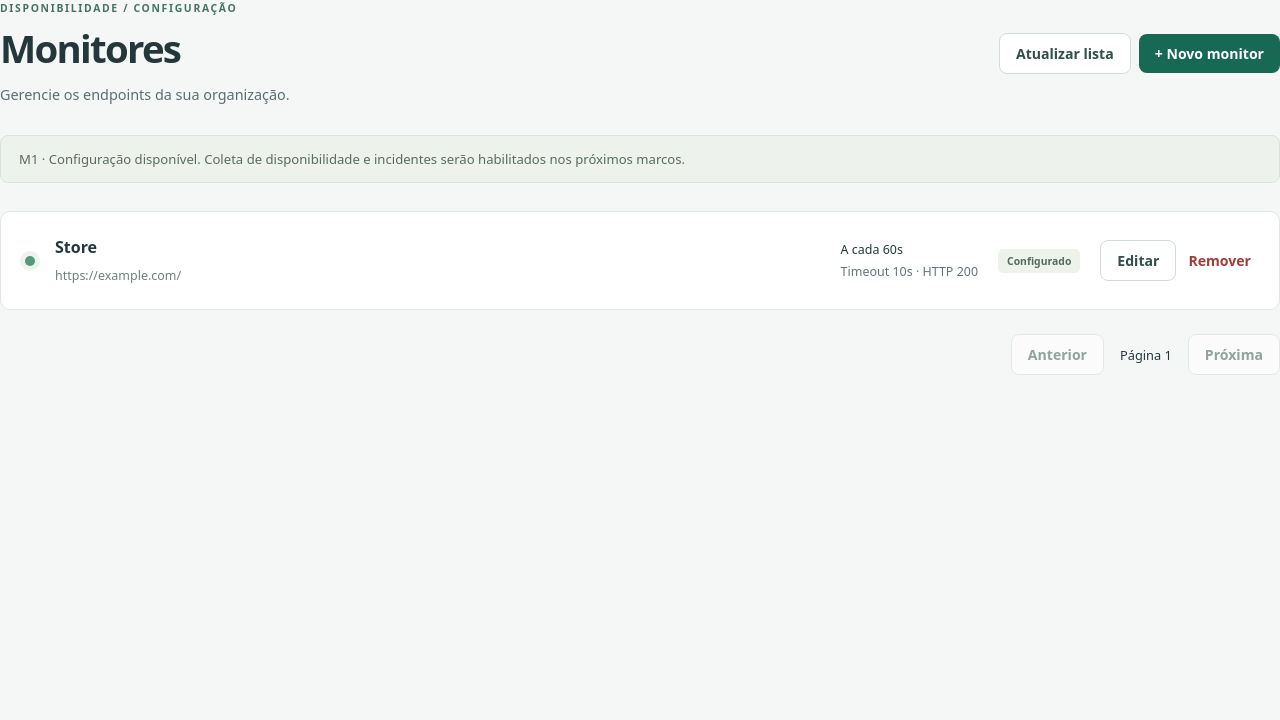
MonitorDashboard › keeps edits visible on a stale-version conflict
Expected: the heading "Store" is shown, [55,236,97,258]
Click the button "Editar" at coordinates (1138, 260), box [1100,240,1176,281]
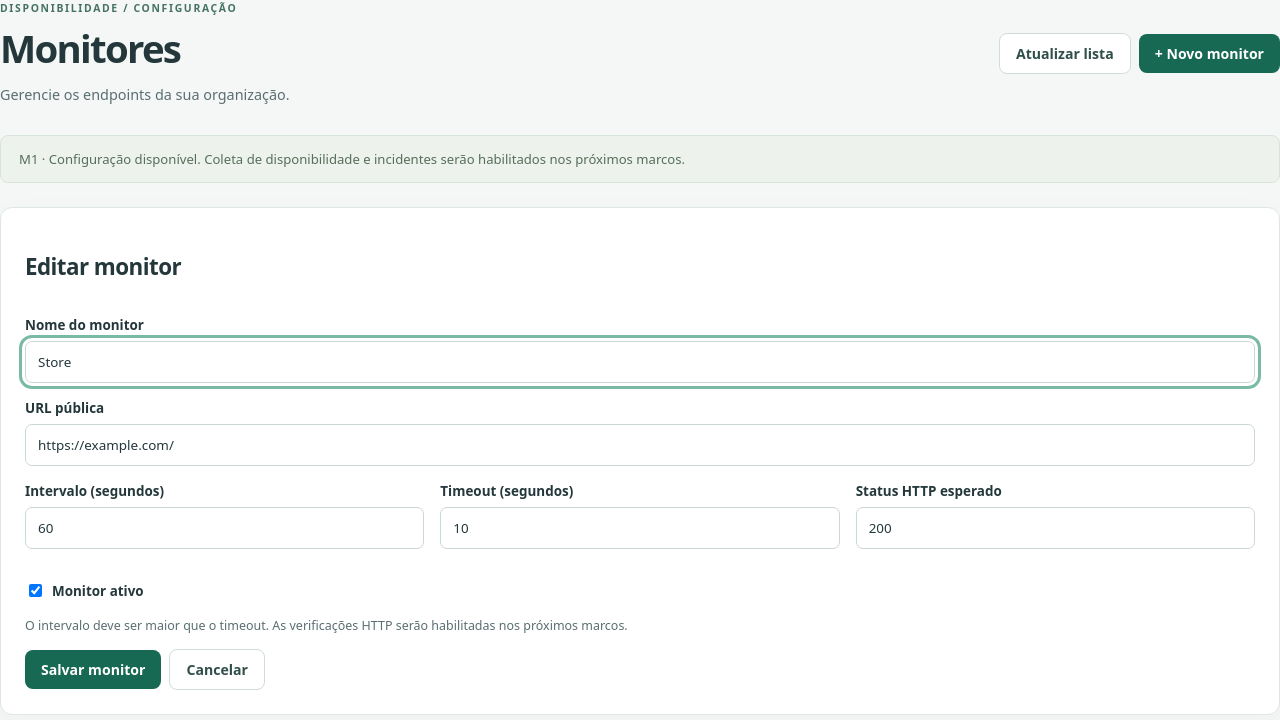
Replace the text in the field labelled "Nome do monitor" with "Unsaved edit" at coordinates (640, 362), box [25,341,1255,383]
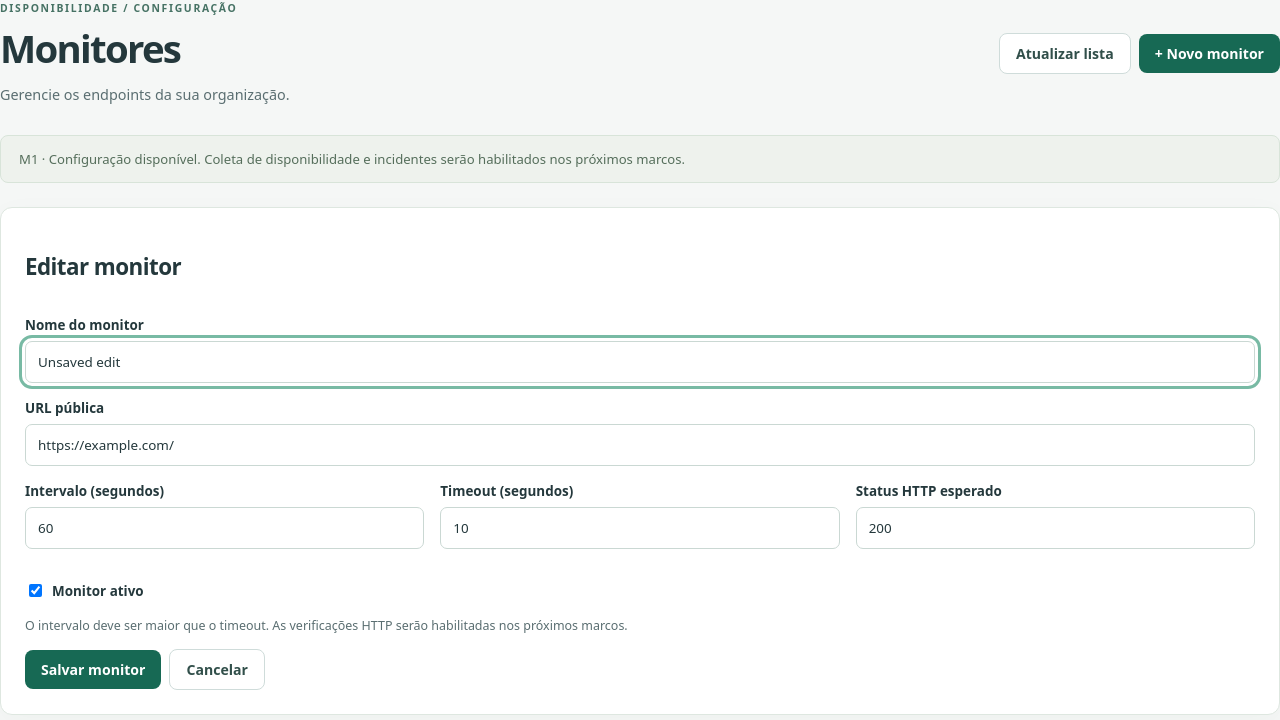
Click the button "Salvar monitor" at coordinates (93, 670), box [25,650,161,689]
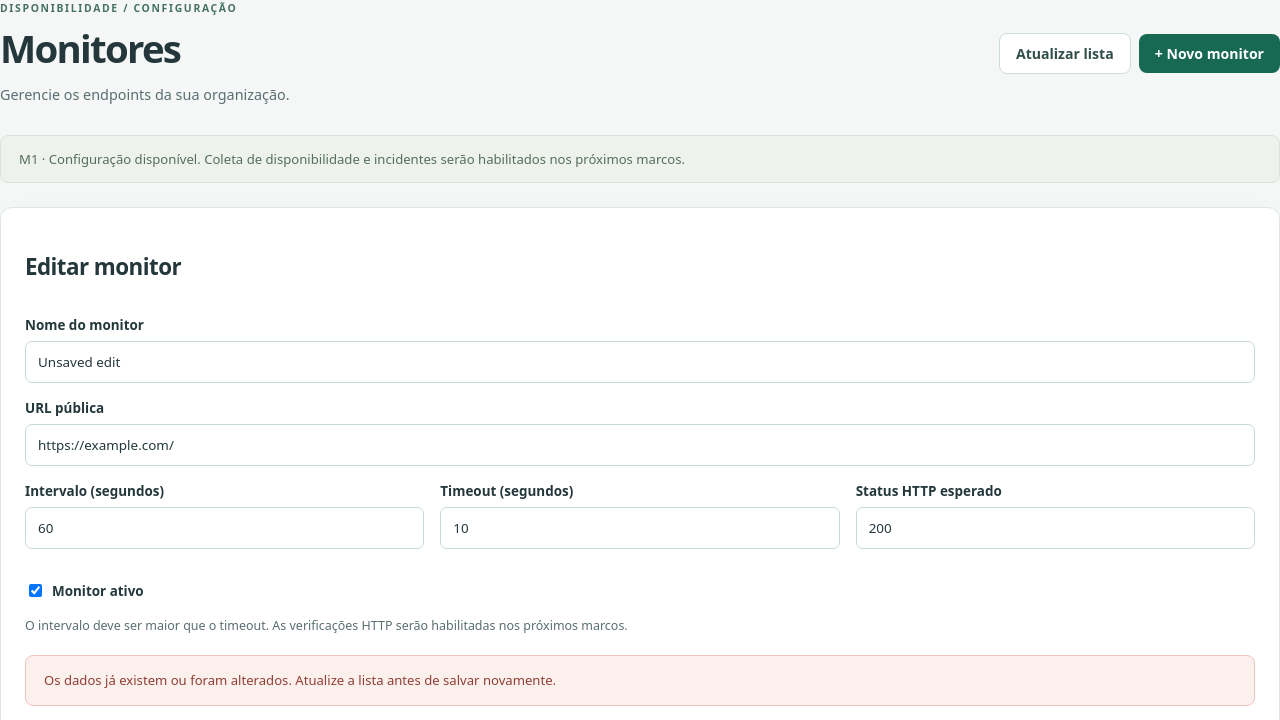
Result: the message shows "Atualize a lista" at [44,671,556,689]
